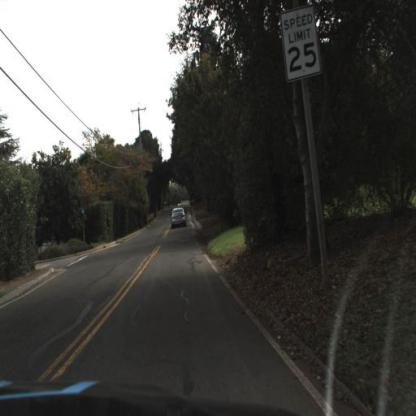car: (170, 204, 189, 230)
